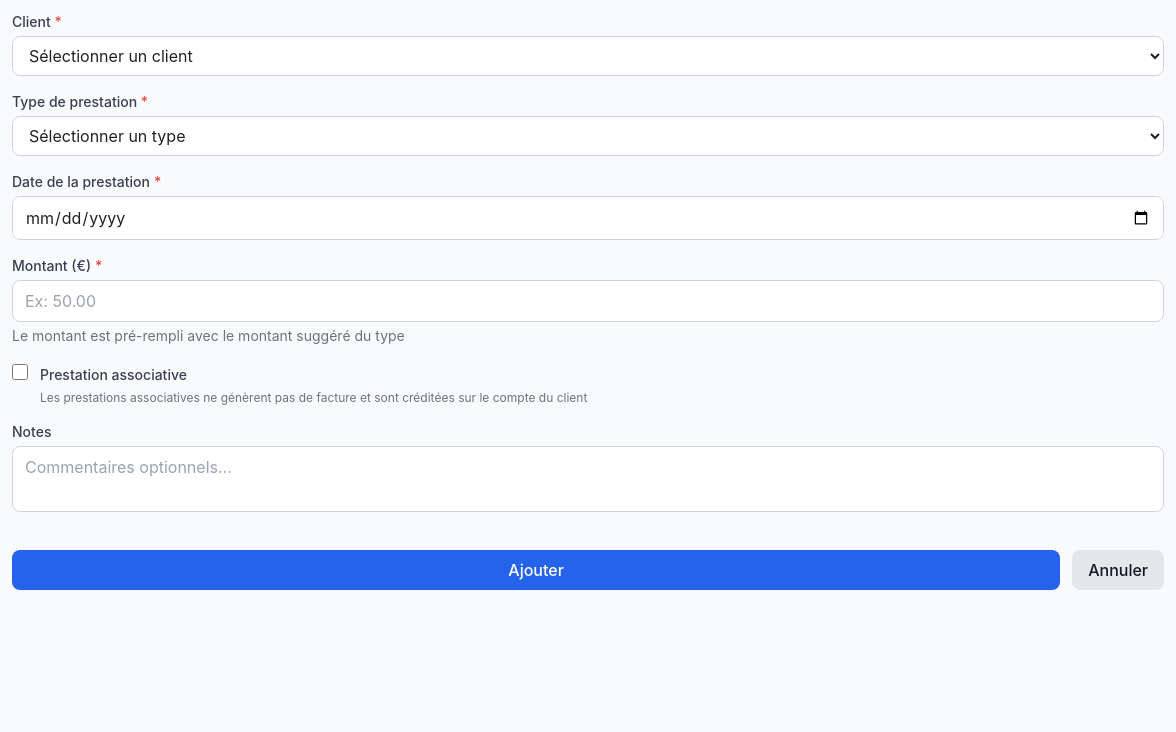
Test case: PrestationForm › validates montant must be greater than 0
Fill required fields except montant is 0
Select "Dupont SARL" in the dropdown labelled "Client *" at (588, 56), box [12, 36, 1164, 76]
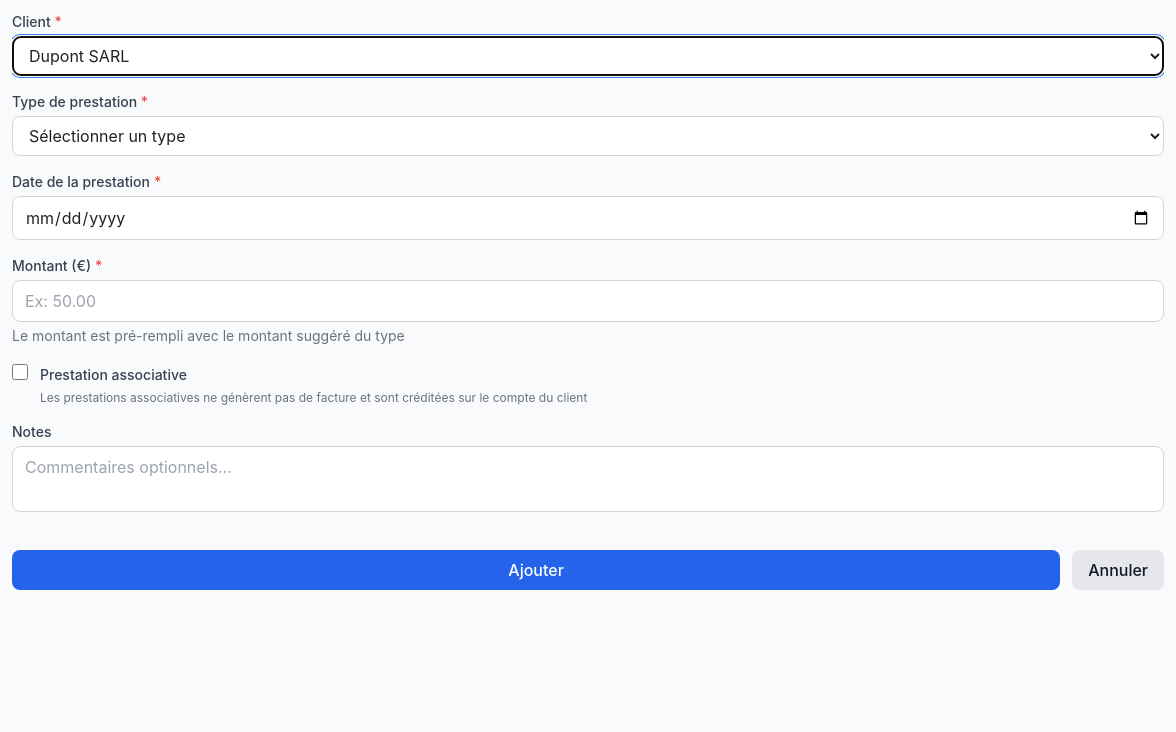
Select "Conseil" in the dropdown labelled "Type de prestation *" at (588, 136), box [12, 116, 1164, 156]
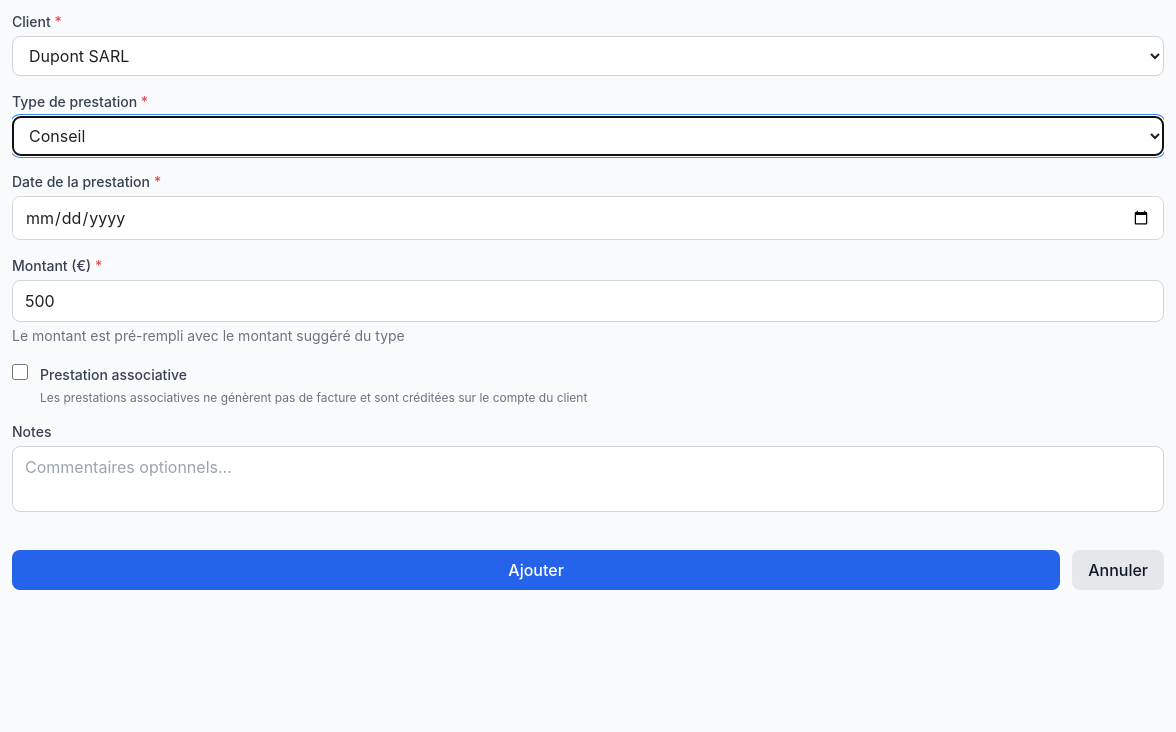
Clear the auto-filled montant and type 0
Replace the text in the number field with placeholder "Ex: 50.00" with "0" at (588, 301), box [12, 280, 1164, 322]
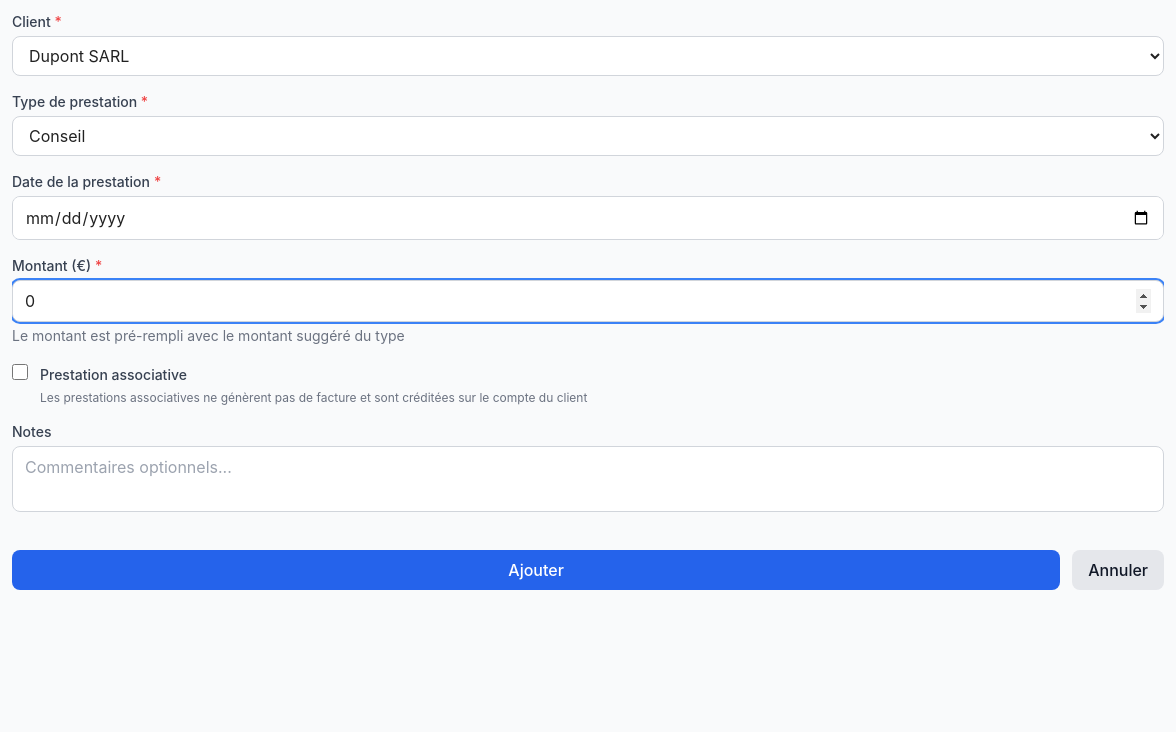
Type "2026-03-15" into the date field at (588, 218), box [13, 197, 1163, 239]
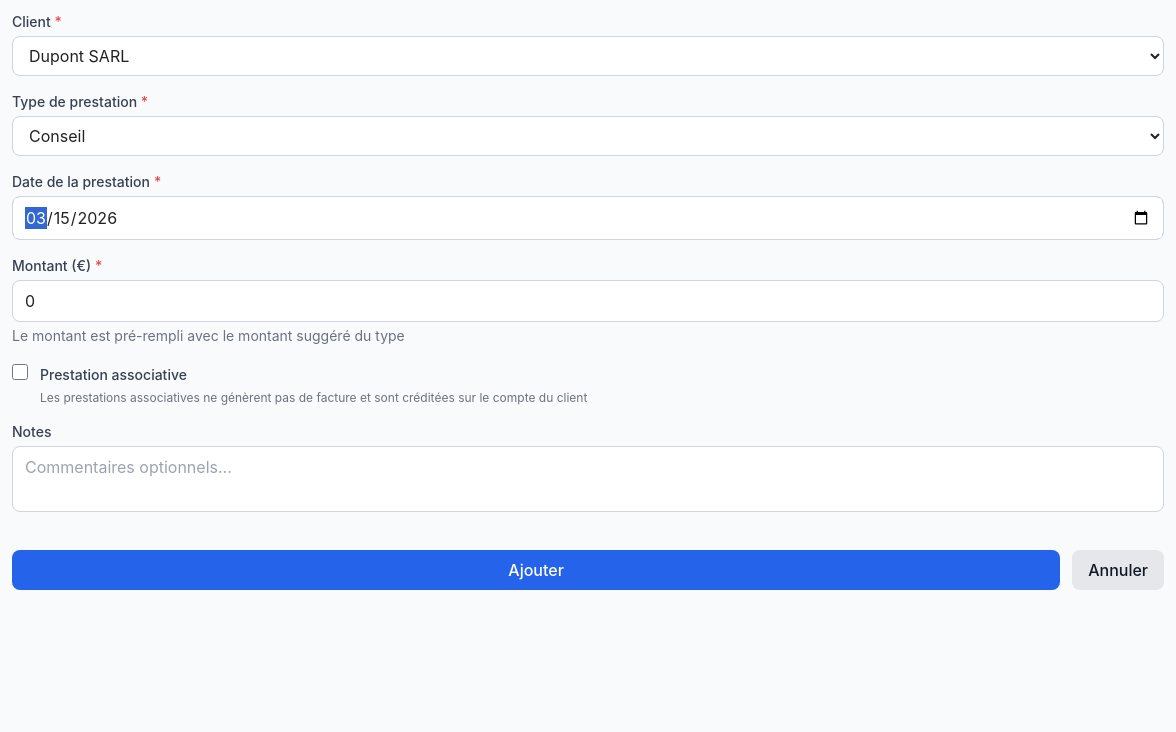
Click the button "Ajouter" at (536, 570), box [12, 550, 1060, 590]
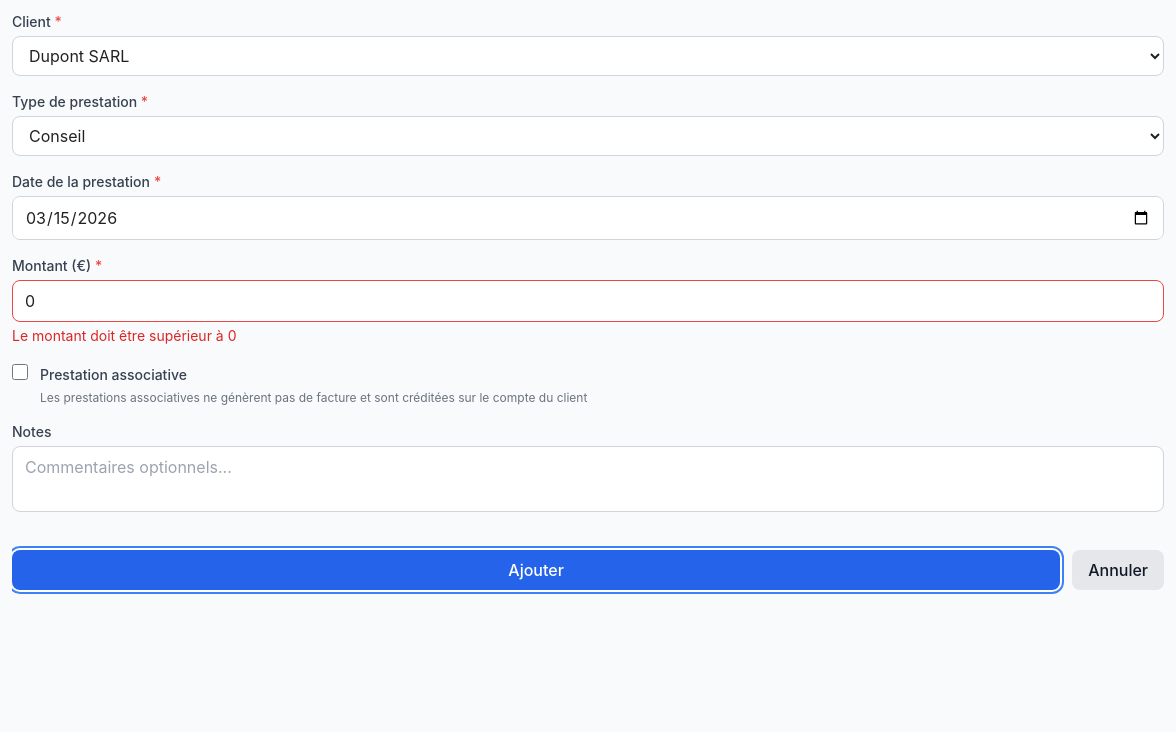
Check: the text "Le montant doit être supérieur à 0" is shown, box [12, 327, 236, 344]
